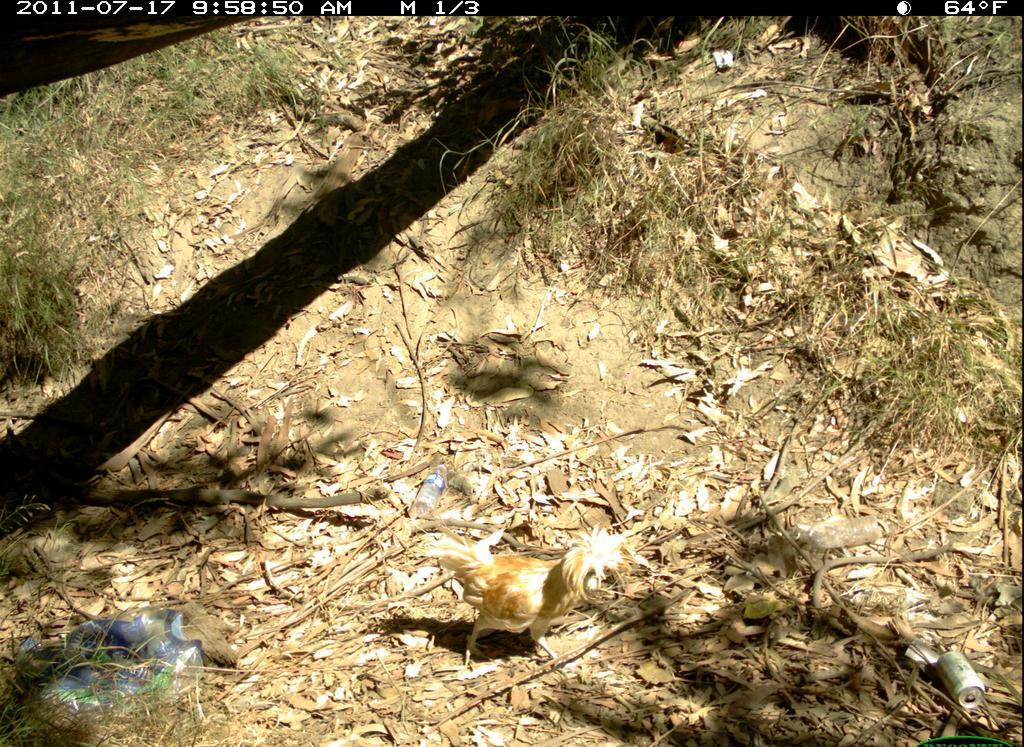bird: (422, 515, 623, 675)
